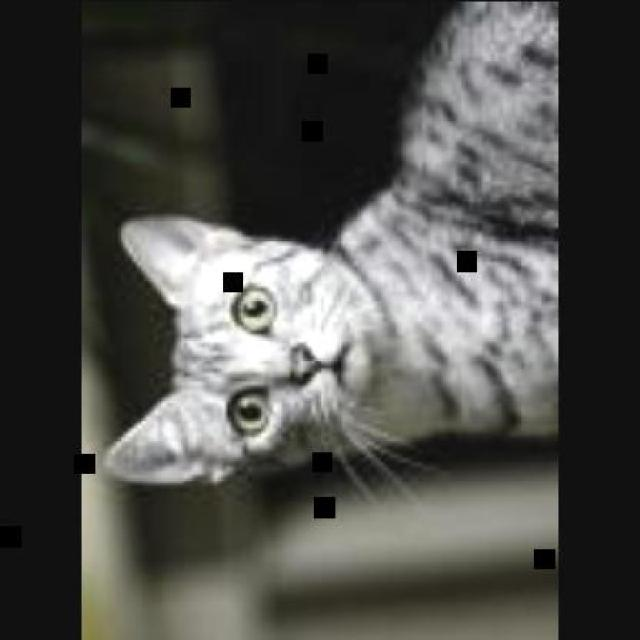unauthorized: (100, 0, 558, 506)
